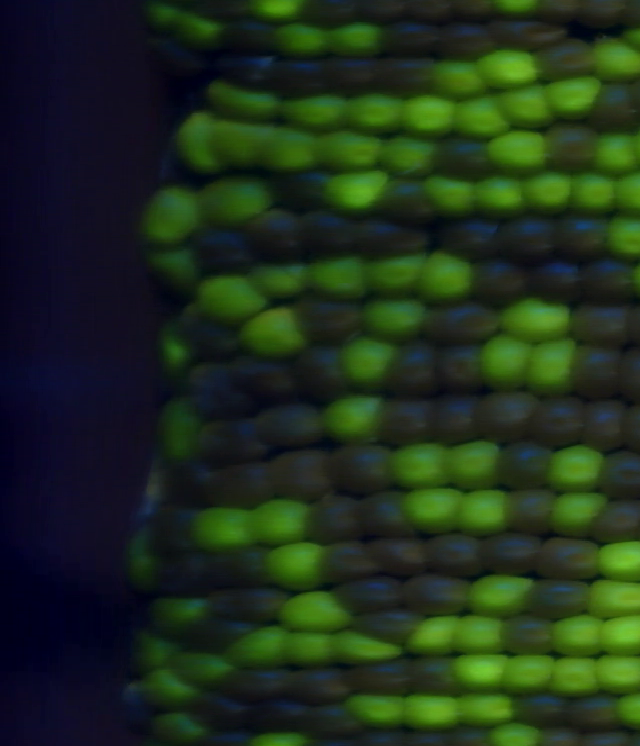fluorescent: (237, 306, 319, 360), (320, 392, 397, 447), (142, 182, 200, 254), (304, 127, 391, 174), (492, 293, 577, 341), (191, 176, 275, 222), (481, 125, 557, 175), (274, 588, 364, 629), (354, 297, 437, 341), (372, 123, 437, 179), (263, 543, 337, 592), (305, 254, 374, 305), (206, 76, 284, 121), (323, 168, 394, 217), (212, 115, 276, 169), (481, 333, 536, 395), (526, 335, 578, 400), (384, 441, 454, 489), (192, 508, 260, 557), (192, 270, 262, 317), (403, 489, 473, 536), (419, 246, 474, 305), (446, 650, 518, 695), (457, 482, 516, 536), (245, 503, 317, 547), (445, 439, 508, 489), (178, 109, 227, 173), (497, 79, 556, 132), (364, 252, 429, 300), (134, 667, 210, 708), (394, 89, 460, 136), (277, 625, 343, 672), (550, 447, 612, 497), (545, 614, 612, 660), (158, 391, 203, 459), (548, 489, 609, 539), (262, 118, 315, 175), (138, 595, 215, 634), (477, 47, 544, 91), (337, 337, 391, 391), (122, 532, 166, 598), (344, 692, 416, 732), (145, 245, 206, 292), (397, 692, 465, 734), (470, 172, 527, 222), (540, 74, 600, 120), (469, 575, 537, 615), (222, 626, 303, 659), (499, 649, 558, 694), (425, 171, 476, 223), (152, 324, 203, 376), (454, 92, 508, 141), (454, 690, 520, 730), (331, 629, 406, 664), (452, 616, 513, 659), (590, 649, 640, 701), (277, 95, 349, 131), (400, 619, 466, 658), (583, 575, 640, 620), (543, 654, 604, 696), (148, 711, 221, 746), (569, 168, 618, 220), (431, 56, 489, 99), (343, 91, 403, 132), (177, 13, 230, 59), (595, 608, 640, 662), (175, 648, 240, 685), (592, 127, 640, 176), (593, 34, 640, 82), (523, 165, 570, 213), (329, 23, 389, 60), (137, 2, 194, 39), (125, 631, 180, 668), (591, 540, 640, 581), (275, 25, 330, 61), (252, 260, 302, 299), (602, 217, 640, 265), (491, 717, 541, 746), (243, 1, 306, 23), (496, 1, 535, 18)
nonfluorescent: (474, 525, 549, 579), (250, 399, 325, 451), (472, 387, 539, 445), (191, 361, 257, 419), (330, 442, 403, 494), (539, 117, 598, 178), (193, 420, 274, 464), (357, 215, 441, 257), (375, 393, 442, 445), (427, 391, 490, 446), (266, 441, 331, 494), (424, 341, 488, 394), (210, 458, 272, 512), (244, 215, 316, 261), (525, 396, 590, 446), (436, 220, 511, 263), (539, 528, 602, 579), (207, 585, 291, 623), (419, 304, 498, 344), (433, 137, 504, 181), (424, 528, 489, 576), (567, 305, 634, 351), (348, 653, 418, 697), (385, 175, 442, 229), (376, 17, 444, 62), (529, 41, 605, 81), (220, 51, 288, 95), (495, 613, 563, 657), (556, 211, 609, 265), (353, 607, 428, 645), (267, 168, 336, 209), (191, 227, 252, 273), (303, 212, 362, 259), (348, 496, 411, 540), (469, 262, 536, 303), (325, 53, 383, 100), (581, 395, 628, 453), (217, 665, 299, 698), (177, 615, 250, 652), (296, 296, 363, 336), (502, 216, 560, 262), (582, 255, 635, 305), (434, 21, 497, 63), (201, 691, 261, 735), (380, 58, 437, 104), (372, 533, 434, 575), (299, 348, 351, 398), (401, 577, 473, 613), (334, 575, 400, 614), (527, 260, 588, 302), (522, 575, 586, 615), (318, 539, 385, 577), (593, 491, 640, 545), (273, 56, 333, 98), (509, 693, 581, 728), (241, 357, 298, 401), (589, 81, 640, 130), (197, 541, 245, 593), (302, 699, 366, 738), (293, 659, 350, 702), (409, 650, 460, 698), (492, 16, 566, 49), (599, 441, 640, 500), (147, 550, 207, 590), (497, 441, 553, 483), (568, 346, 613, 398), (172, 461, 222, 507), (295, 501, 357, 538), (217, 18, 283, 51), (179, 321, 242, 355), (506, 487, 554, 531), (149, 38, 203, 77), (287, 1, 361, 29), (393, 1, 459, 32), (250, 694, 305, 731), (392, 344, 431, 395), (572, 690, 623, 729), (232, 540, 268, 589), (354, 1, 409, 33), (150, 511, 197, 547), (575, 1, 628, 32), (191, 1, 258, 24), (535, 1, 583, 22), (460, 1, 496, 23)
